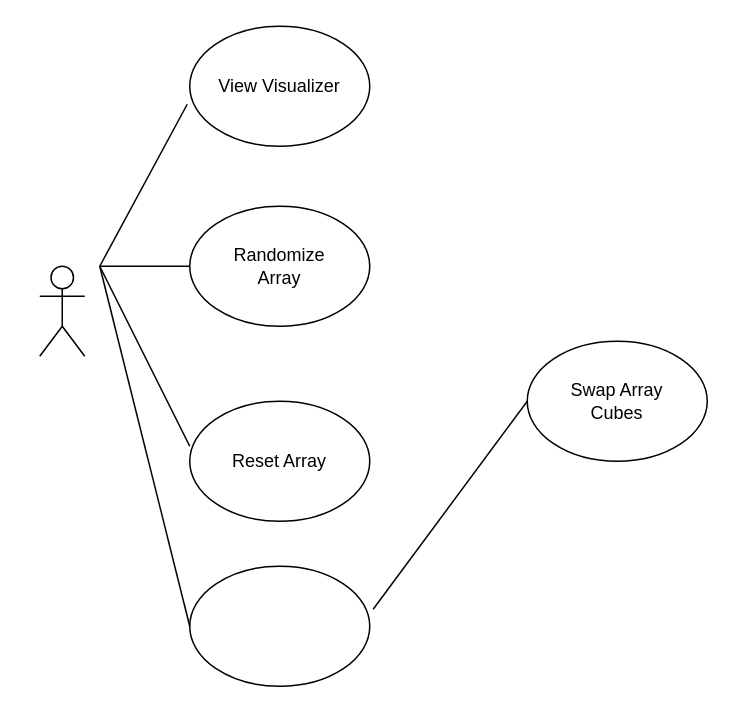
The diagram is 734 pixels wide and 713 high, and some of its shapes have lost their labels. The shapes that lost their labels are listed below. From the top down, each one's box as (x1, y1, x2, y2) in pixels, then its label:
(38, 265, 85, 356): Site User
(188, 565, 370, 686): Sort
